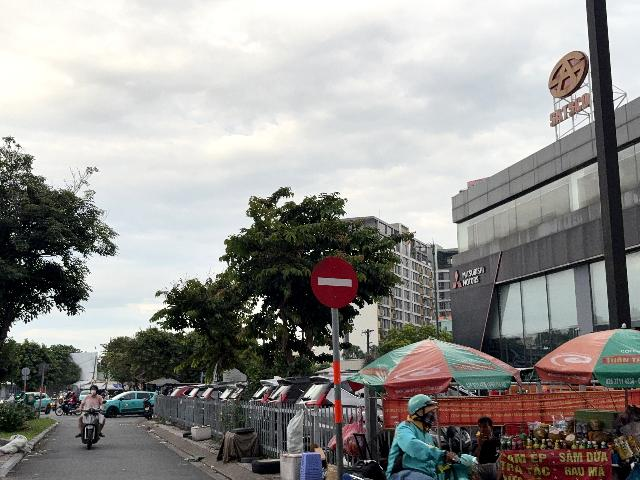cam-di-nguoc-chieu: (311, 257, 359, 309)
